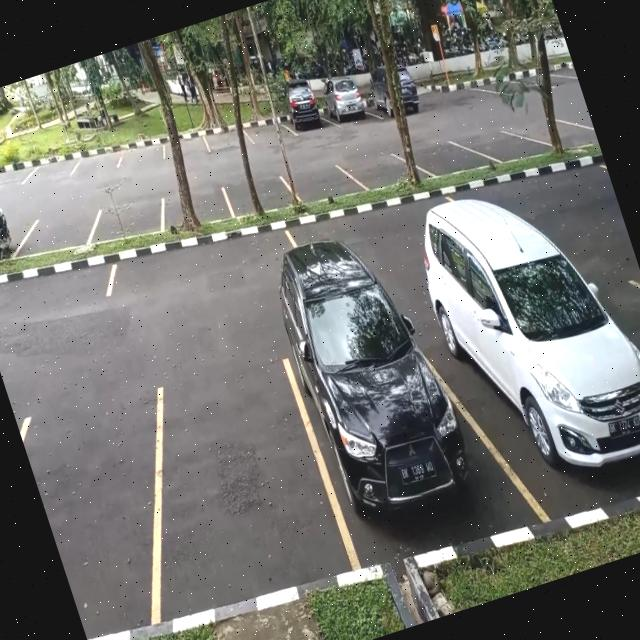empty: (130, 350, 357, 610), (17, 389, 199, 640), (282, 152, 364, 212), (20, 202, 103, 260), (92, 190, 172, 246), (349, 140, 426, 198), (410, 128, 482, 187), (160, 178, 235, 234), (220, 166, 295, 220), (474, 117, 543, 169)
occupied: (428, 238, 640, 539), (281, 303, 503, 570), (320, 74, 375, 132), (280, 88, 333, 143)
